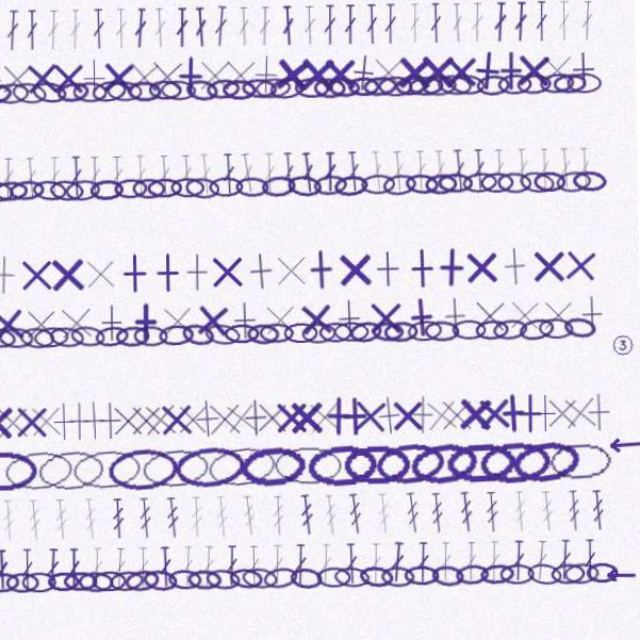chain: (229, 438, 299, 483), (420, 438, 488, 484), (516, 438, 584, 484), (70, 439, 137, 482), (200, 439, 267, 482), (388, 439, 455, 482), (39, 440, 106, 482), (103, 440, 170, 482), (137, 440, 204, 482), (486, 440, 554, 481), (168, 440, 234, 482), (324, 440, 391, 481), (261, 440, 326, 482), (455, 441, 521, 481), (550, 441, 614, 481), (293, 441, 358, 480), (7, 442, 71, 480), (359, 442, 423, 480), (208, 323, 242, 348), (528, 186, 563, 210), (230, 324, 265, 348), (525, 324, 560, 348), (53, 94, 87, 118), (529, 554, 563, 578), (295, 94, 330, 117), (452, 94, 487, 117), (20, 324, 55, 347), (261, 554, 296, 577), (216, 94, 249, 118), (72, 94, 106, 117), (128, 94, 162, 117), (310, 186, 344, 209), (104, 324, 138, 347), (151, 554, 185, 577), (168, 554, 202, 577), (249, 554, 283, 577), (281, 554, 315, 577), (371, 554, 405, 577), (20, 187, 55, 209), (84, 325, 119, 347), (366, 324, 399, 347), (567, 324, 600, 347), (102, 187, 136, 209), (214, 187, 248, 209), (563, 187, 597, 209), (127, 325, 161, 347), (501, 325, 535, 347), (227, 555, 261, 577), (348, 555, 382, 577), (21, 95, 54, 117), (95, 95, 128, 117), (71, 187, 104, 209), (87, 187, 120, 209), (354, 187, 387, 209), (400, 187, 433, 209), (421, 187, 454, 209), (57, 325, 90, 347), (137, 555, 170, 577), (306, 555, 339, 577), (439, 555, 472, 577), (269, 95, 303, 116), (282, 95, 316, 116), (465, 95, 499, 116), (549, 95, 583, 116), (49, 187, 83, 208), (475, 187, 509, 208), (37, 325, 71, 346), (70, 325, 104, 346), (187, 325, 221, 346), (544, 325, 578, 346), (236, 95, 269, 116), (383, 95, 416, 116), (286, 187, 319, 208), (335, 187, 368, 208), (578, 187, 611, 208), (421, 325, 454, 346), (21, 555, 54, 576), (192, 555, 225, 576), (462, 555, 495, 576), (485, 555, 518, 576), (193, 96, 227, 116), (564, 556, 598, 576), (413, 95, 445, 116), (37, 96, 70, 116), (143, 96, 176, 116), (426, 96, 459, 116), (439, 96, 472, 116), (528, 96, 561, 116), (34, 188, 67, 208), (437, 326, 470, 346), (108, 556, 141, 576), (210, 556, 243, 576), (392, 556, 425, 576), (111, 96, 143, 116), (162, 96, 194, 116), (251, 96, 283, 116), (350, 96, 382, 116), (490, 96, 522, 116), (562, 96, 594, 116), (125, 188, 157, 208), (262, 188, 294, 208), (508, 188, 540, 208), (147, 326, 179, 346), (164, 326, 196, 346), (270, 326, 302, 346), (322, 326, 354, 346), (387, 326, 419, 346), (399, 326, 431, 346), (485, 326, 517, 346), (552, 556, 584, 576), (319, 96, 352, 115), (575, 96, 608, 115), (179, 188, 212, 207), (237, 188, 270, 207), (452, 188, 485, 207), (249, 326, 282, 345), (282, 326, 315, 345), (352, 326, 385, 345), (55, 556, 88, 575), (414, 556, 447, 575), (504, 556, 537, 575), (337, 96, 368, 116), (440, 188, 471, 208), (182, 96, 214, 115), (398, 96, 430, 115), (510, 96, 542, 115), (148, 188, 180, 207), (165, 188, 197, 207), (201, 188, 233, 207), (380, 188, 412, 207), (492, 188, 524, 207), (305, 326, 337, 345), (338, 326, 370, 345), (463, 326, 495, 345), (40, 556, 72, 575), (94, 556, 126, 575), (121, 556, 153, 575), (332, 556, 364, 575), (369, 96, 400, 115), (542, 188, 573, 207), (79, 556, 110, 575), (585, 556, 616, 575)
double: (265, 165, 283, 204), (243, 27, 259, 66), (400, 533, 416, 572), (535, 534, 551, 572), (48, 28, 63, 66), (168, 28, 183, 66), (506, 28, 521, 66), (63, 166, 78, 204), (227, 166, 242, 204), (323, 166, 338, 204), (366, 166, 381, 204), (388, 166, 403, 204), (408, 166, 423, 204), (465, 166, 480, 204), (565, 166, 580, 204), (77, 534, 92, 572), (140, 534, 155, 572), (223, 534, 238, 572), (558, 534, 573, 572), (187, 28, 201, 66), (485, 28, 499, 66), (526, 28, 540, 66), (588, 28, 602, 66), (42, 166, 56, 204), (189, 166, 203, 204), (249, 166, 263, 204), (448, 166, 462, 204), (525, 166, 539, 204), (30, 534, 44, 572), (119, 534, 133, 572), (204, 534, 218, 572), (310, 534, 324, 572), (334, 534, 348, 572), (358, 534, 372, 572), (381, 534, 395, 572), (425, 534, 439, 572), (492, 534, 506, 572), (515, 534, 529, 572), (27, 28, 40, 66), (87, 28, 100, 66), (108, 28, 121, 66), (130, 28, 143, 66), (151, 28, 164, 66), (208, 28, 221, 66), (226, 28, 239, 66), (286, 28, 299, 66), (308, 28, 321, 66), (328, 28, 341, 66), (347, 28, 360, 66), (366, 28, 379, 66), (404, 28, 417, 66), (467, 28, 480, 66), (546, 28, 559, 66), (567, 28, 580, 66), (24, 166, 37, 204), (86, 166, 99, 204), (124, 166, 137, 204), (145, 166, 158, 204), (167, 166, 180, 204), (210, 166, 223, 204), (288, 166, 301, 204), (306, 166, 319, 204), (345, 166, 358, 204), (430, 166, 443, 204), (485, 166, 498, 204), (584, 166, 597, 204), (54, 534, 67, 572), (98, 534, 111, 572), (163, 534, 176, 572), (184, 534, 197, 572), (246, 534, 259, 572), (267, 534, 280, 572), (289, 534, 302, 572), (447, 534, 460, 572), (471, 534, 484, 572), (68, 28, 80, 66), (267, 28, 279, 66), (387, 28, 399, 66), (427, 28, 439, 66), (447, 28, 459, 66), (107, 166, 119, 204), (504, 166, 516, 204), (547, 166, 559, 204), (583, 534, 595, 572)
noise: (607, 438, 640, 453), (612, 341, 634, 363), (602, 562, 632, 574)
single: (13, 72, 55, 114), (296, 72, 338, 114), (364, 72, 405, 113), (480, 72, 521, 113), (218, 302, 259, 343), (243, 394, 284, 435), (382, 394, 423, 435), (134, 73, 174, 113), (158, 73, 198, 113), (321, 73, 361, 113), (412, 73, 452, 113), (524, 73, 564, 113), (265, 257, 305, 297), (565, 257, 605, 297), (26, 303, 66, 343), (316, 303, 356, 343), (415, 303, 455, 343), (322, 395, 362, 435), (365, 395, 405, 435), (432, 395, 472, 435), (562, 395, 602, 435), (39, 73, 78, 112), (63, 73, 102, 112), (180, 73, 219, 112), (202, 73, 241, 112), (225, 73, 264, 112), (249, 73, 288, 112), (273, 73, 312, 112), (388, 73, 427, 112), (434, 73, 473, 112), (24, 257, 63, 296), (322, 257, 361, 296), (444, 257, 483, 296), (504, 257, 543, 296), (91, 303, 130, 342), (186, 303, 225, 342), (347, 303, 386, 342), (447, 303, 486, 342), (479, 303, 518, 342), (512, 303, 551, 342), (14, 395, 53, 434), (61, 395, 100, 434), (106, 395, 145, 434), (168, 395, 207, 434), (212, 395, 251, 434), (258, 395, 297, 434), (273, 395, 312, 434), (336, 395, 375, 434), (415, 395, 454, 434), (464, 395, 503, 434), (482, 395, 521, 434), (500, 395, 539, 434), (88, 74, 126, 112), (112, 74, 150, 112), (343, 74, 381, 112), (457, 74, 495, 112), (504, 74, 542, 112), (547, 74, 585, 112), (572, 74, 610, 112), (55, 258, 93, 296), (84, 258, 122, 296), (115, 258, 153, 296), (147, 258, 185, 296), (178, 258, 216, 296), (206, 258, 244, 296), (234, 258, 272, 296), (294, 258, 332, 296), (354, 258, 392, 296), (385, 258, 423, 296), (417, 258, 455, 296), (473, 258, 511, 296), (536, 258, 574, 296), (58, 304, 96, 342), (125, 304, 163, 342), (157, 304, 195, 342), (250, 304, 288, 342), (283, 304, 321, 342), (382, 304, 420, 342), (544, 304, 582, 342), (576, 304, 614, 342), (30, 396, 68, 434), (48, 396, 86, 434), (78, 396, 116, 434), (93, 396, 131, 434), (122, 396, 160, 434), (138, 396, 176, 434), (155, 396, 193, 434), (184, 396, 222, 434), (199, 396, 237, 434), (229, 396, 267, 434), (292, 396, 330, 434), (306, 396, 344, 434), (352, 396, 390, 434), (401, 396, 439, 434), (447, 396, 485, 434), (516, 396, 554, 434), (530, 396, 568, 434), (546, 396, 584, 434), (581, 396, 619, 434)
treble: (361, 487, 378, 526), (415, 487, 432, 526), (262, 487, 278, 526), (316, 487, 332, 526), (466, 487, 482, 526), (113, 488, 129, 526), (190, 488, 206, 526), (542, 488, 558, 526), (61, 488, 76, 526), (86, 488, 101, 526), (165, 488, 180, 526), (237, 488, 252, 526), (339, 488, 354, 526), (389, 488, 404, 526), (439, 488, 454, 526), (517, 488, 532, 526), (590, 488, 605, 526), (140, 488, 154, 526), (491, 488, 505, 526), (568, 488, 582, 526), (37, 488, 50, 526), (214, 488, 227, 526), (291, 488, 303, 526)
